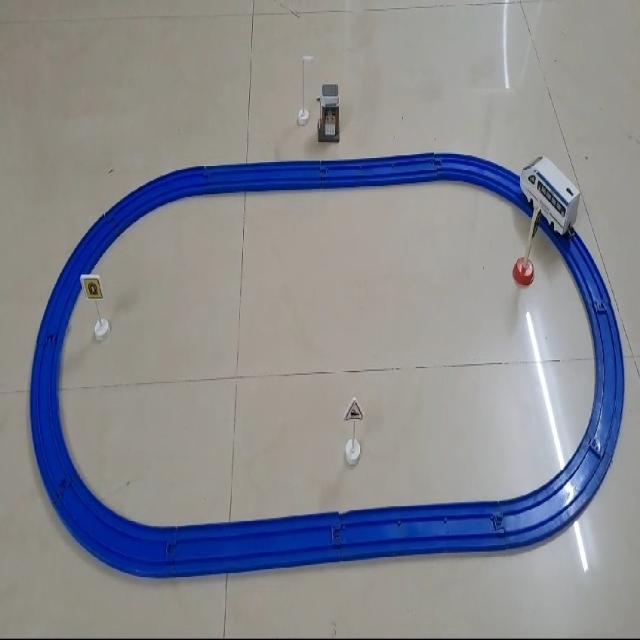bus: (512, 152, 584, 237)
